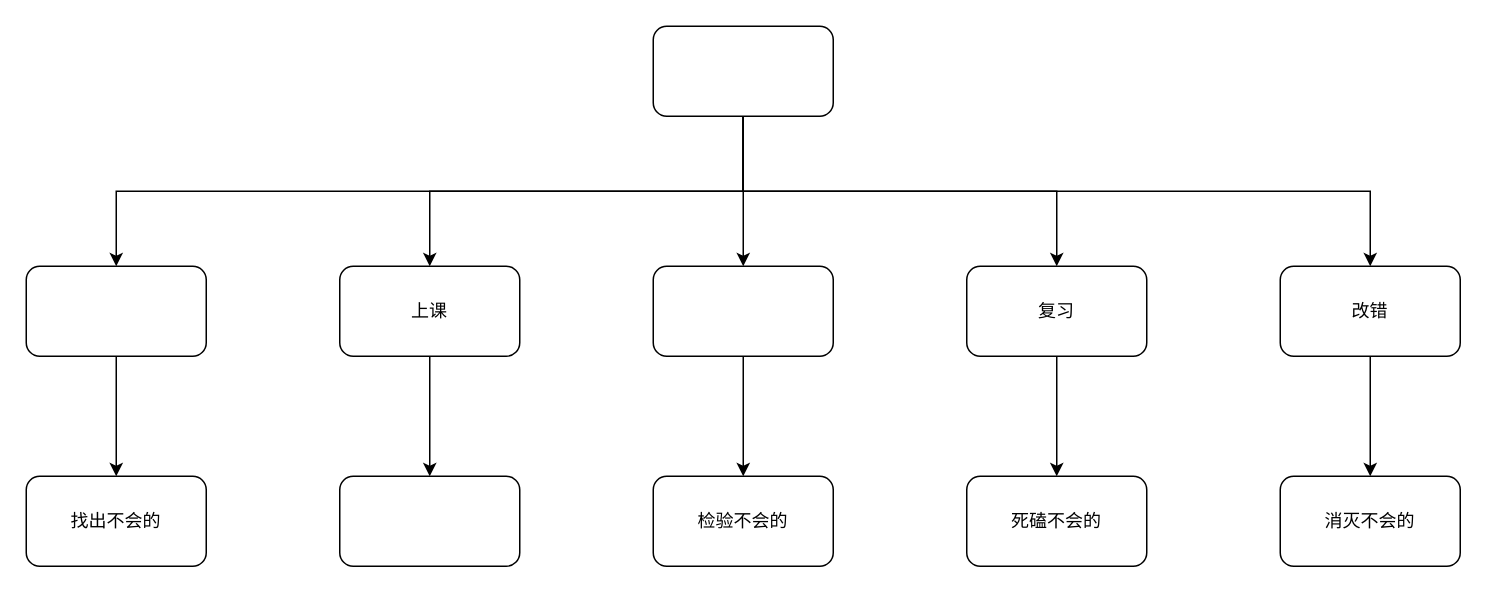
The diagram is 1487 pixels wide and 593 high, and some of its shapes have lost their labels. Each missing label, with the box of its shape:
五步学习闭环: (652, 25, 833, 116)
作业: (652, 265, 833, 356)
解决不会的: (338, 475, 520, 566)
预习: (25, 265, 206, 356)
